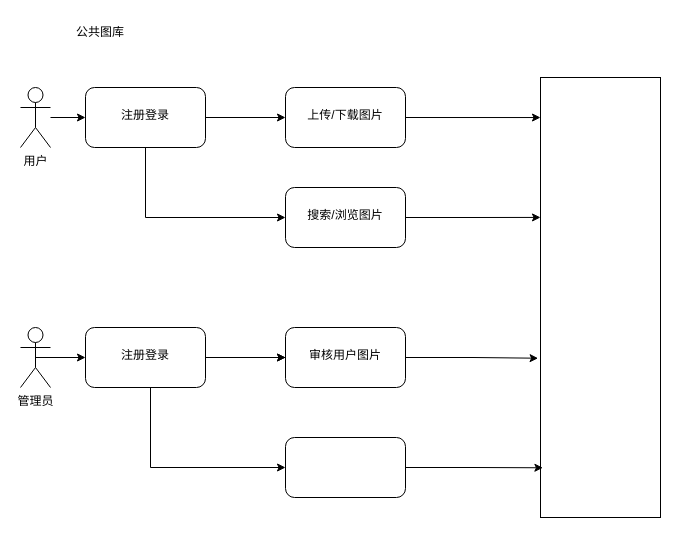
Some shapes in this 678 by 535 pixel diagram are drawn without their labels. The box of each missing label's shape, as (x1, y1, x2, y2) in pixels:
图多多云图库: (540, 76, 660, 518)
批量上传图片: (284, 436, 406, 498)
